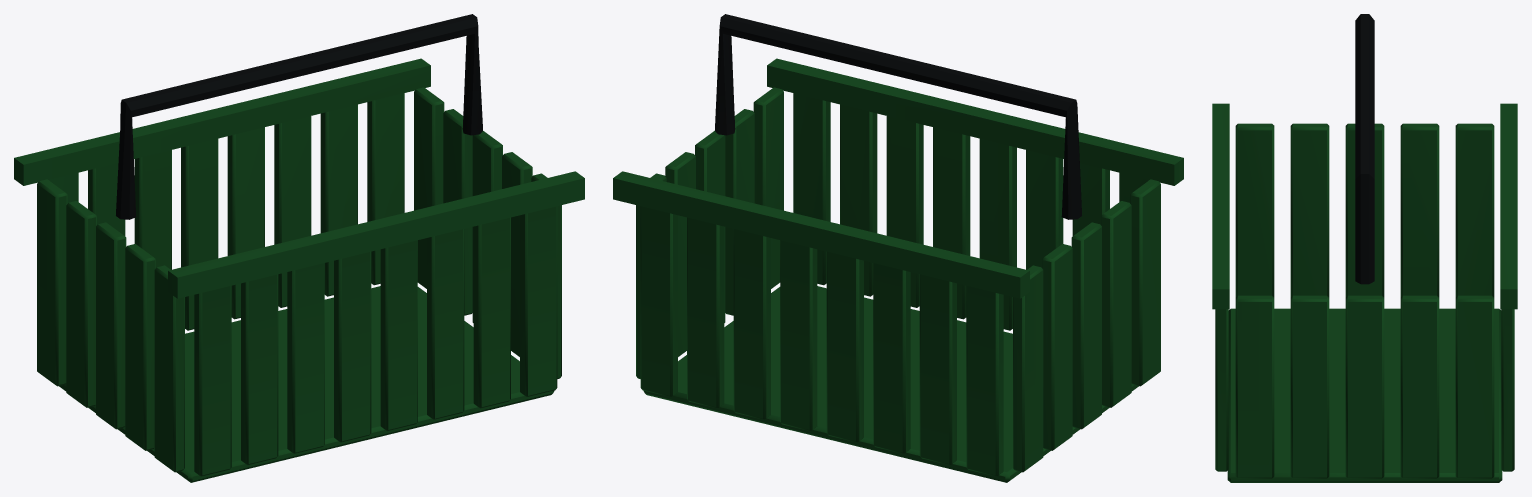
File: mkt-basket-hand.glb
The picture shows the model from 3 angles, left to right: view 1: azimuth 30°, elevation 25°; view 2: azimuth 150°, elevation 25°; view 3: azimuth 270°, elevation 25°; orthographic projection. The views are drawn at different scales.
Visible parts, largest first — view 1: body__plastic, handle__plastic; view 2: body__plastic, handle__plastic; view 3: body__plastic, handle__plastic.
Boxes of the visible parts, x1=… form: body__plastic: x1=14, y1=58, x2=584, y2=482; handle__plastic: x1=116, y1=14, x2=482, y2=219; body__plastic: x1=613, y1=58, x2=1183, y2=482; handle__plastic: x1=715, y1=14, x2=1081, y2=219; body__plastic: x1=1212, y1=103, x2=1517, y2=482; handle__plastic: x1=1355, y1=14, x2=1374, y2=284.
Size of the model in its own units: 0.4 by 0.3078 by 0.278.
